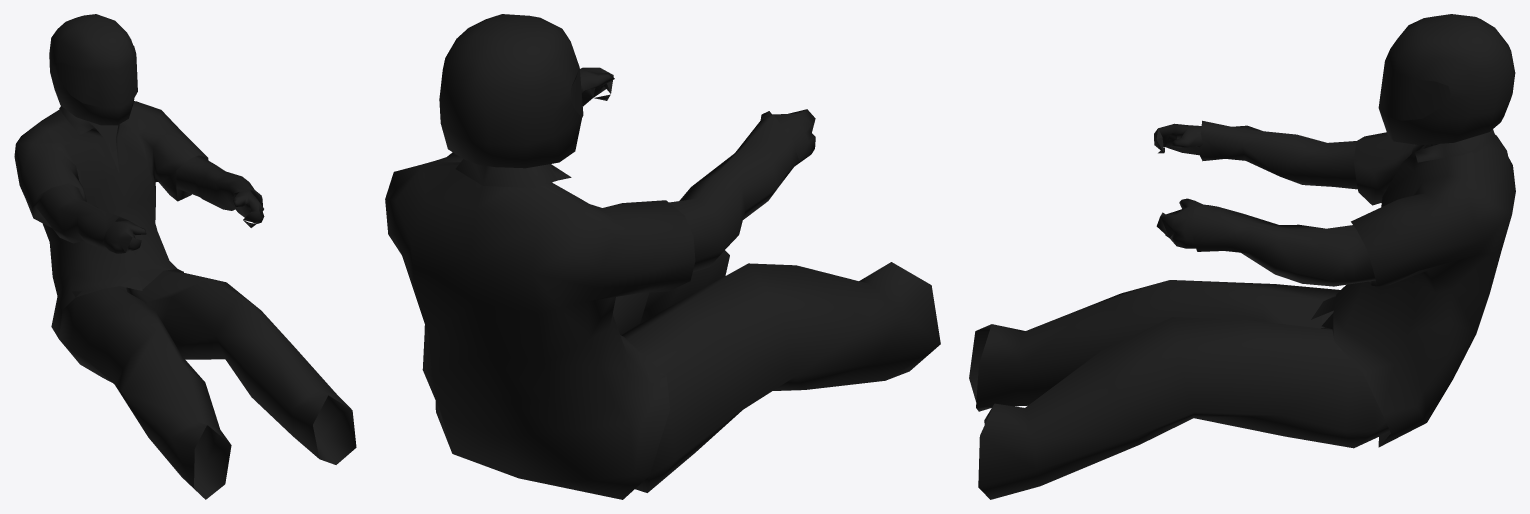
The model's file is Driver_Low.FBX.
3 views of the same model, side by side, from view 1: azimuth 30°, elevation 25°; view 2: azimuth 150°, elevation 25°; view 3: azimuth 270°, elevation 25° (orthographic). The views are drawn at different scales.
Visible parts, largest first — view 1: Driver_Low; view 2: Driver_Low; view 3: Driver_Low.
Boxes of the visible parts, x1,y1,x2,y2 form: Driver_Low: (14, 14, 356, 499); Driver_Low: (385, 14, 940, 499); Driver_Low: (969, 14, 1515, 499).
Bounding box in the file's own units: 1.39 × 2.38 × 2.7.
Materials: 1 (1 with a texture image).
